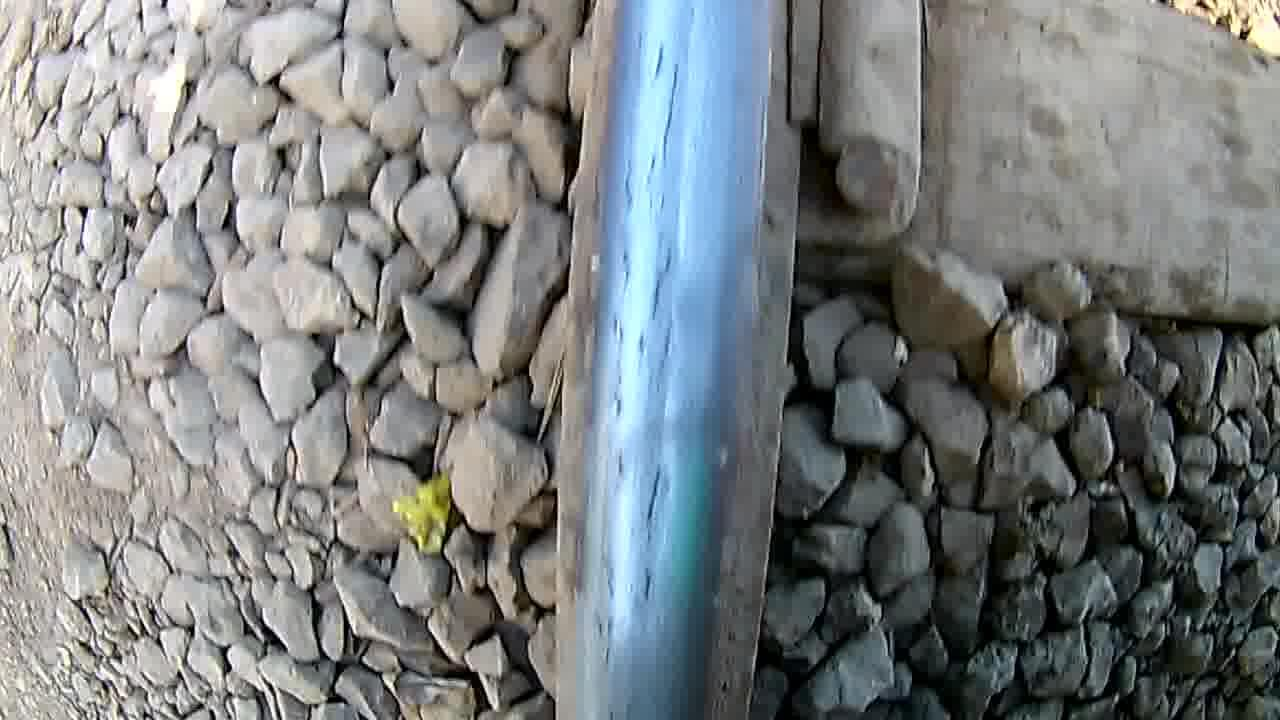normal_track: (597, 47, 704, 668)
